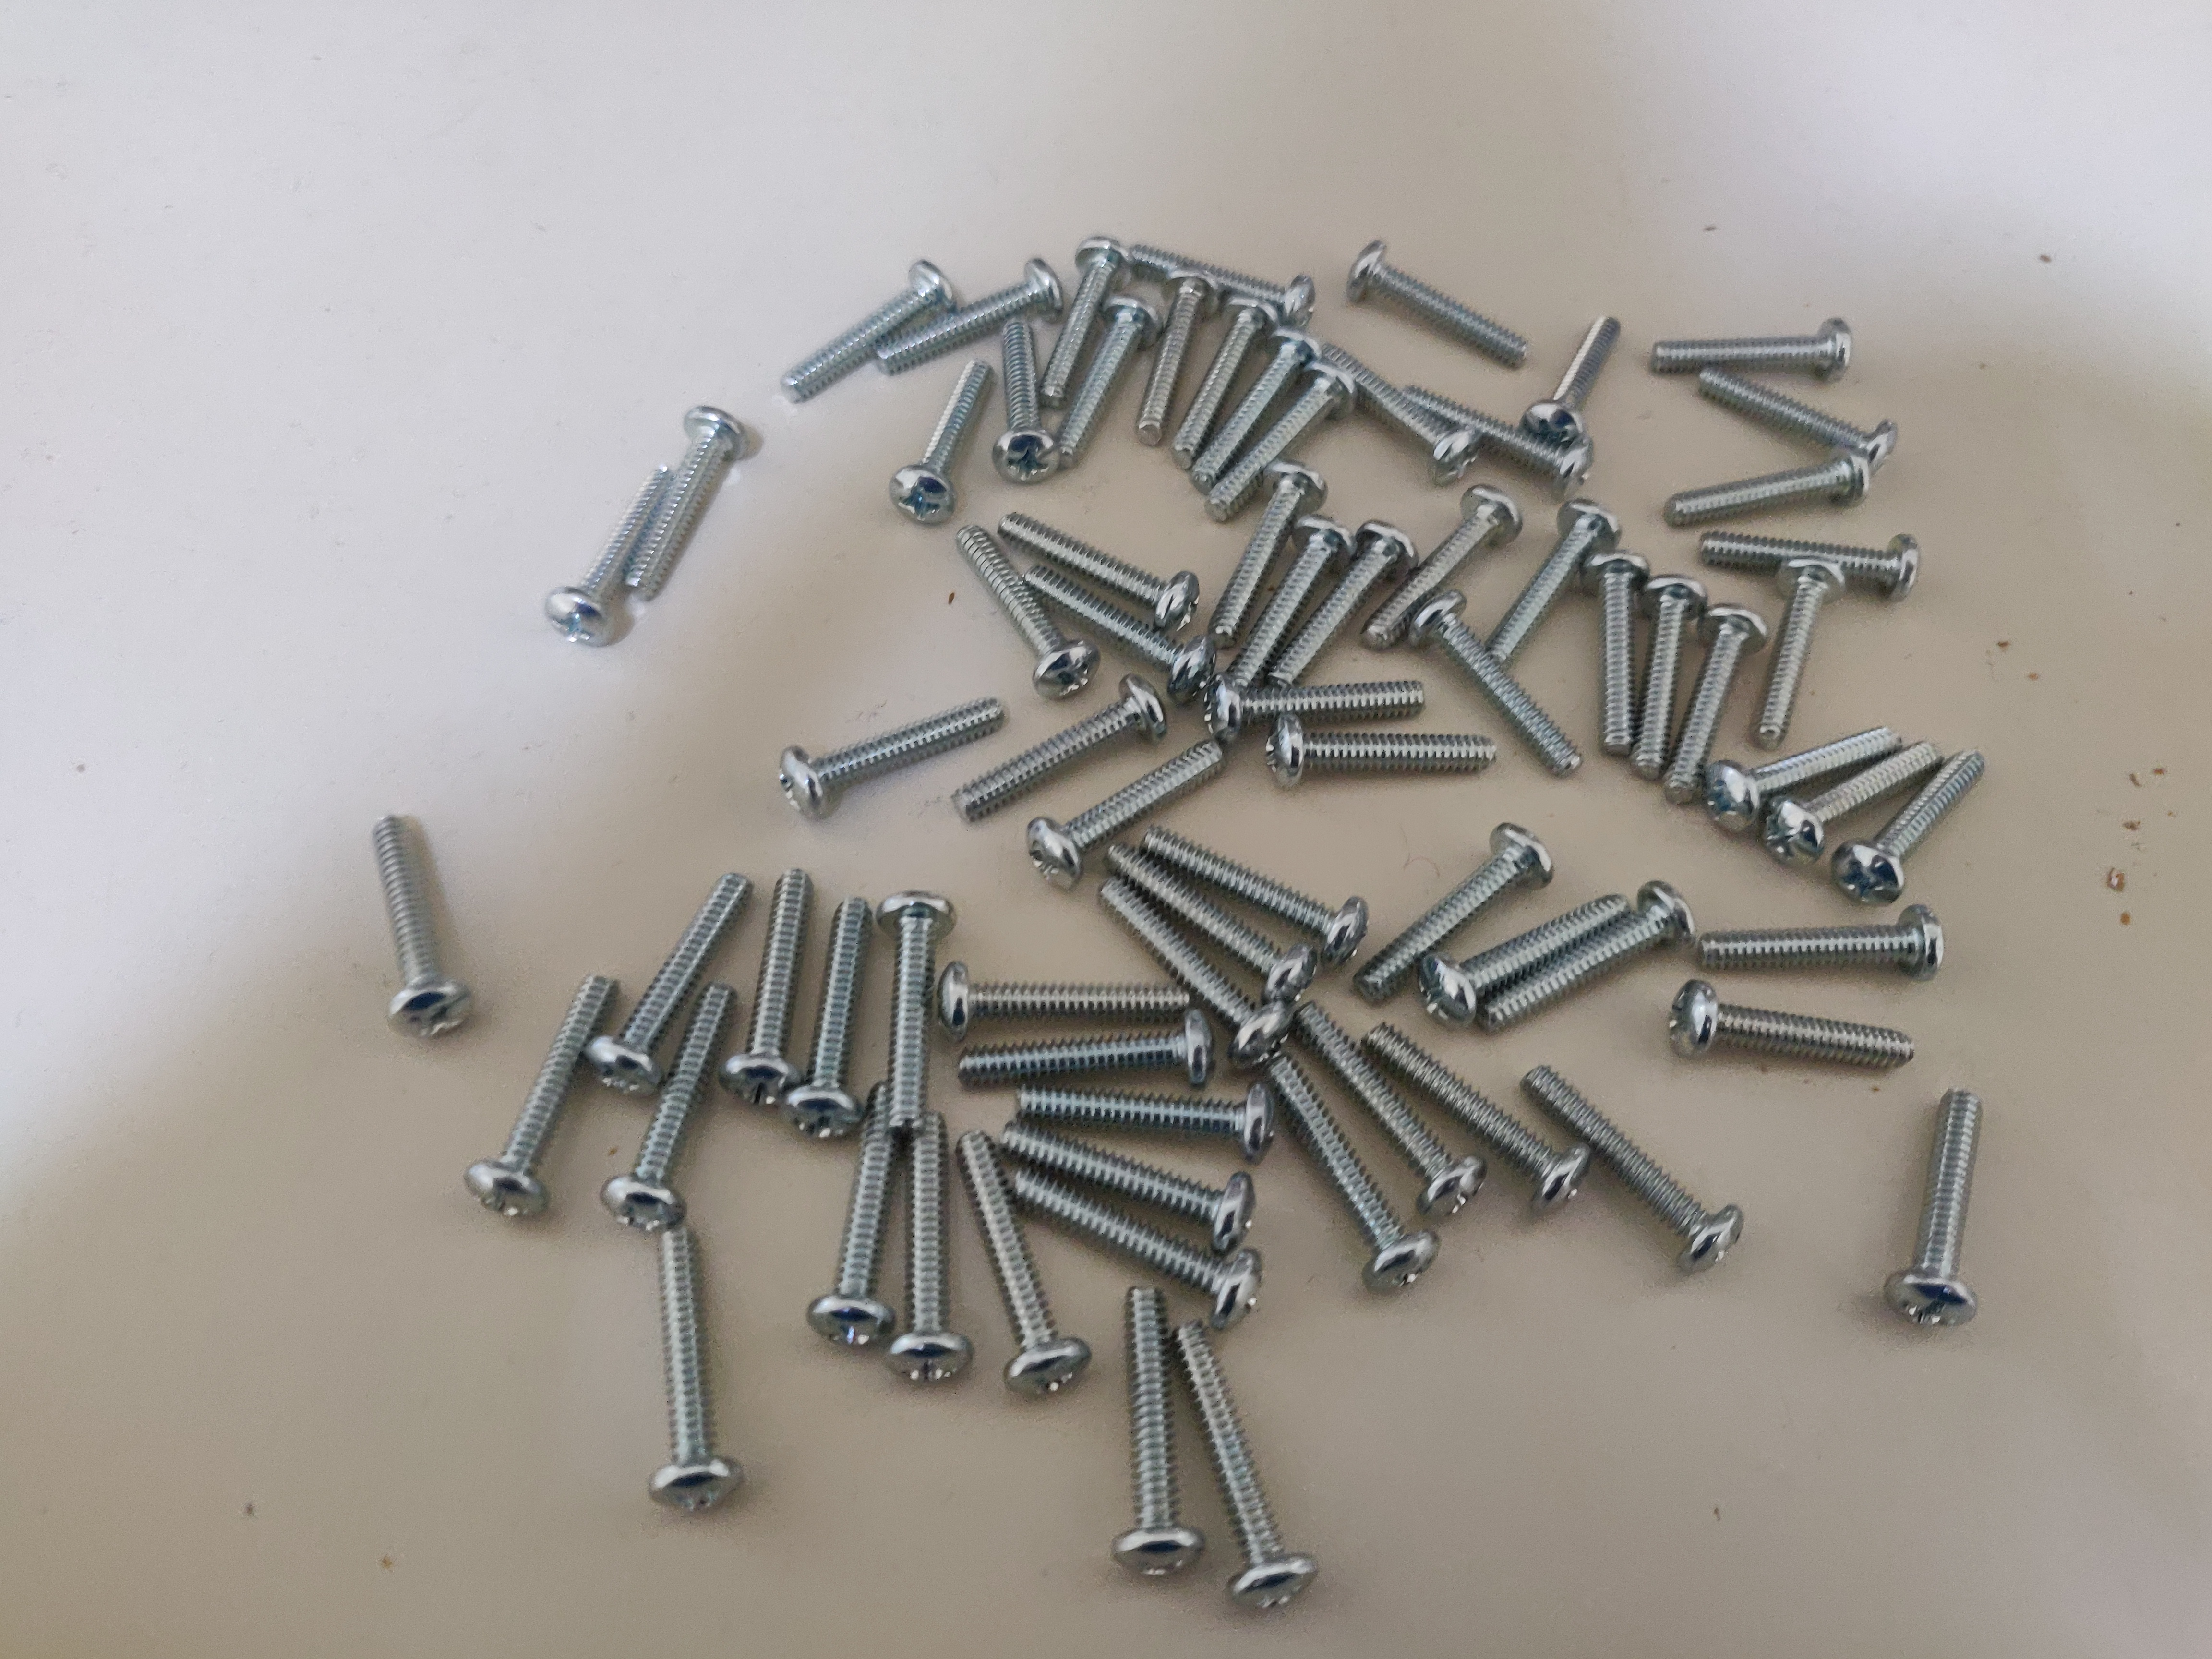longscrew: (1534, 1065, 1737, 1262), (1271, 1056, 1428, 1309), (995, 1127, 1251, 1279), (1005, 1159, 1261, 1309), (1184, 1314, 1310, 1617), (1374, 1019, 1585, 1194), (1301, 1002, 1479, 1208), (948, 1134, 1087, 1387), (1080, 889, 1285, 1060), (594, 880, 758, 1091), (1366, 824, 1569, 985), (1113, 850, 1318, 1002), (1484, 885, 1696, 1030), (784, 673, 995, 817), (606, 981, 725, 1237), (953, 676, 1163, 819), (479, 979, 604, 1218), (1113, 1281, 1205, 1593), (1029, 558, 1216, 699), (651, 1202, 728, 1544), (1421, 599, 1573, 770), (1146, 826, 1371, 941), (1407, 894, 1634, 1000), (948, 533, 1099, 692), (1893, 1079, 1986, 1338), (779, 251, 948, 392), (1216, 345, 1362, 507), (368, 819, 472, 1044), (862, 256, 1066, 371), (1191, 467, 1332, 631), (1277, 521, 1418, 685), (1381, 483, 1522, 647), (1033, 751, 1219, 875), (1345, 235, 1531, 359), (1017, 1084, 1280, 1171), (1752, 737, 1937, 861), (1212, 521, 1352, 685), (1658, 988, 1923, 1073), (951, 1009, 1214, 1094), (934, 958, 1197, 1044), (1008, 504, 1198, 620), (1489, 495, 1622, 657), (885, 1121, 967, 1378), (813, 1089, 894, 1349), (1656, 605, 1763, 800), (1853, 749, 1996, 892), (1709, 364, 1900, 471), (730, 877, 813, 1117), (1331, 335, 1477, 471), (556, 471, 669, 638), (1662, 899, 1963, 962), (1710, 730, 1904, 828), (1407, 380, 1597, 479), (1129, 220, 1318, 315), (1195, 324, 1306, 483), (1198, 664, 1433, 737), (1263, 720, 1500, 791), (874, 884, 944, 1126), (636, 408, 719, 603), (892, 355, 984, 523), (1663, 448, 1874, 521), (799, 906, 866, 1131), (1637, 565, 1705, 781), (1651, 310, 1867, 378), (1177, 289, 1261, 462), (1700, 526, 1919, 587), (1059, 291, 1130, 472), (1773, 563, 1838, 758), (1531, 310, 1620, 446), (1585, 544, 1641, 756), (1050, 230, 1120, 399), (1143, 265, 1202, 453), (993, 315, 1052, 483)
